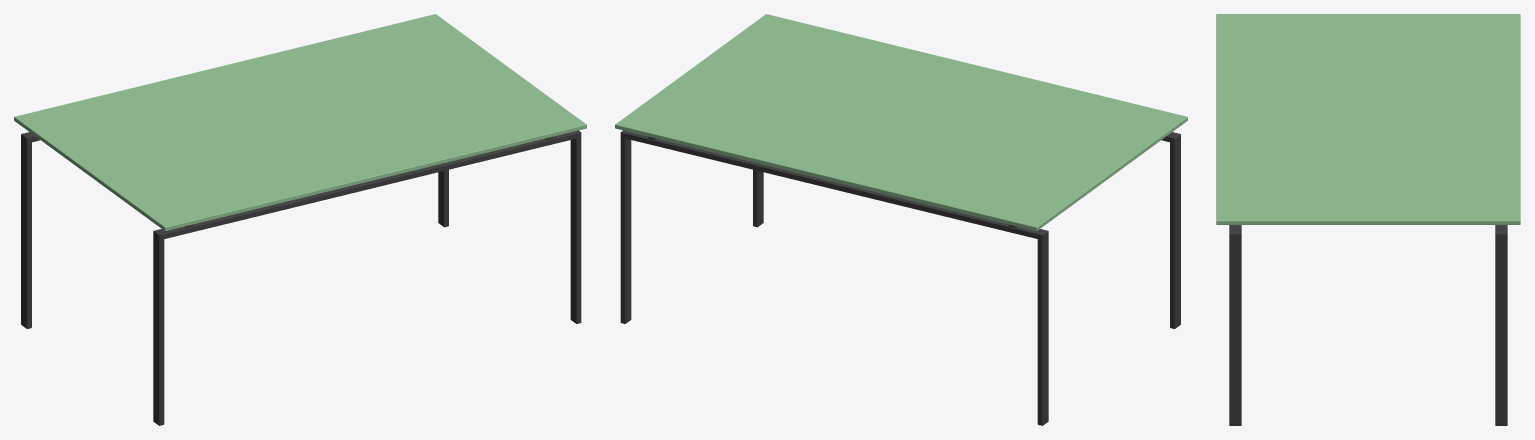
Rendered from Table 3.FBX.
The picture shows the model from 3 angles, left to right: view 1: azimuth 30°, elevation 25°; view 2: azimuth 150°, elevation 25°; view 3: azimuth 270°, elevation 25°; orthographic projection.
Parts seen in each view (by area): view 1: table; view 2: table; view 3: table.
Boxes of the visible parts, x1,y1,x2,y2 form: table: [14, 14, 586, 425]; table: [615, 14, 1187, 425]; table: [1216, 14, 1520, 425].
Size of the model in its own units: 201 by 92.37 by 124.
